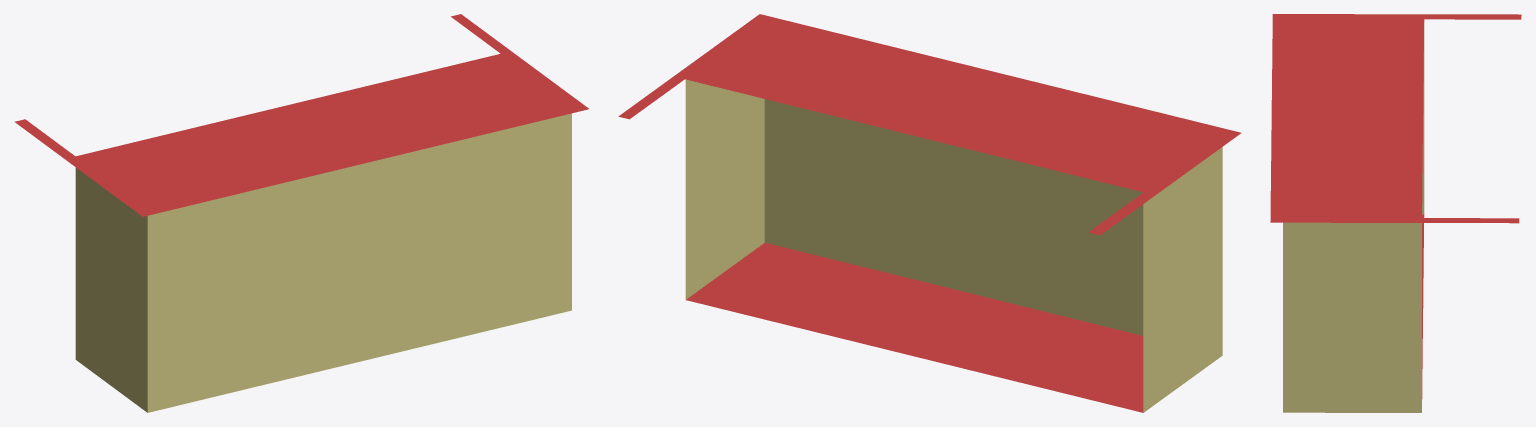
3 views of the same model, side by side, from view 1: azimuth 30°, elevation 25°; view 2: azimuth 150°, elevation 25°; view 3: azimuth 270°, elevation 25° (orthographic). The views are drawn at different scales.
Bounding box in the file's own units: 10.02 × 5.08 × 4.36.
